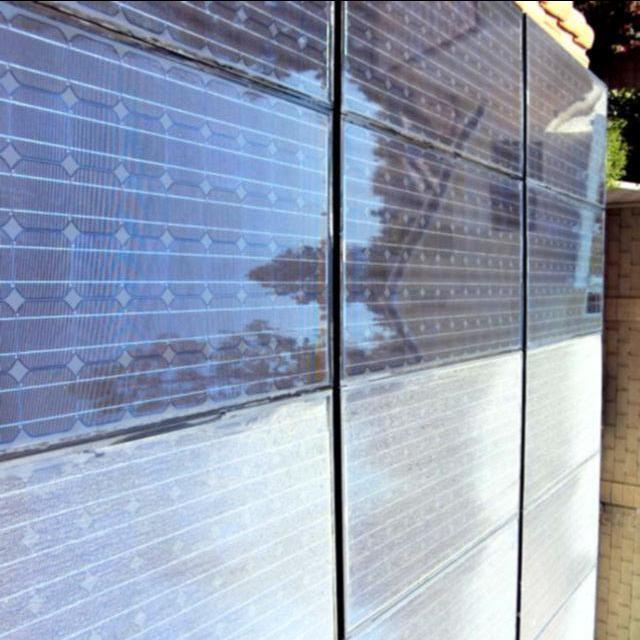soiled: (4, 333, 614, 639)
